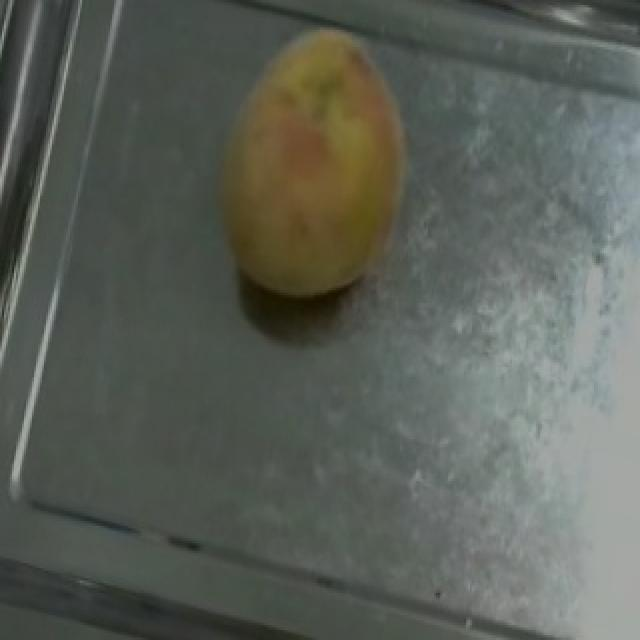Fruit: (182, 8, 452, 332)
